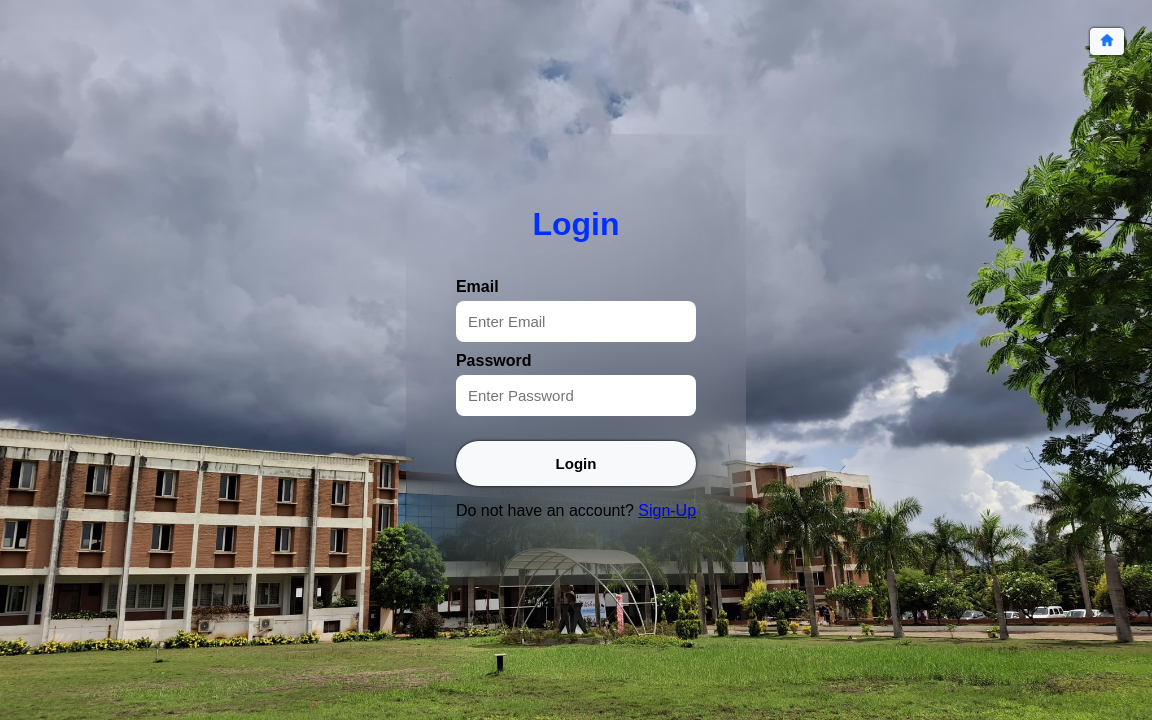
Test: Login page Testing › shows validation when fields are empty
Step 1. Click the button "Login" → x=576, y=463, box [456,441,696,486]
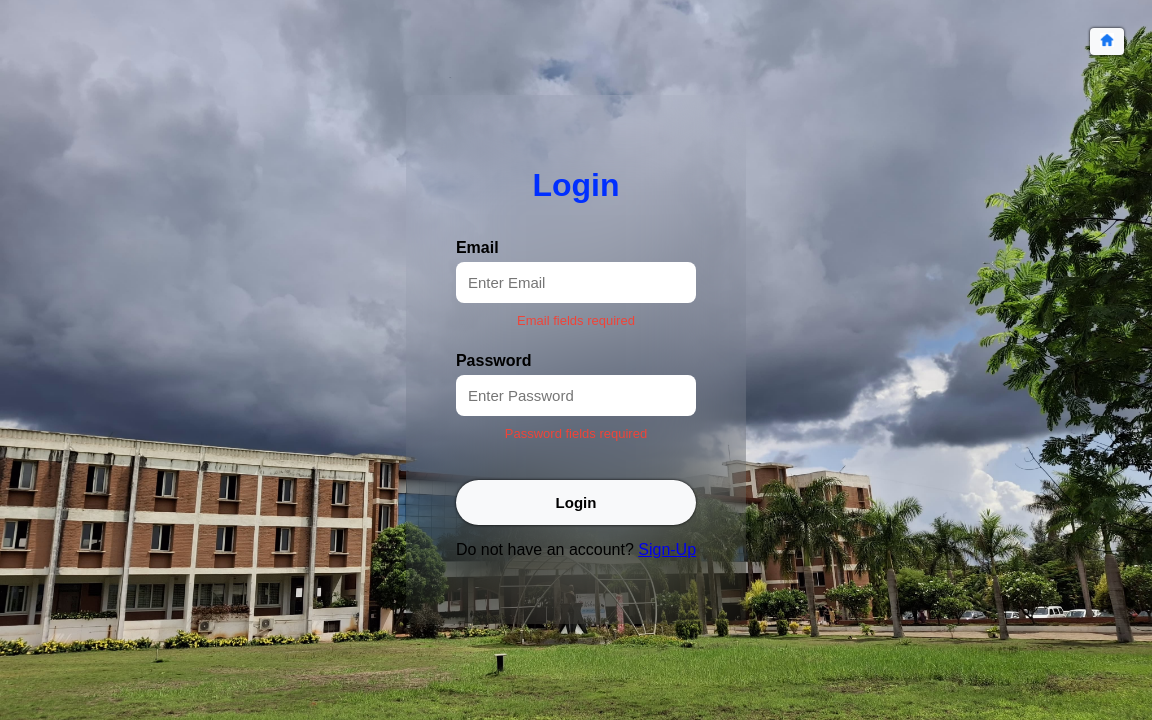
Expected: the text "Email fields required" is shown, [517,313,635,328]
Expected: the text "Password fields required" is shown, [505,426,647,441]
